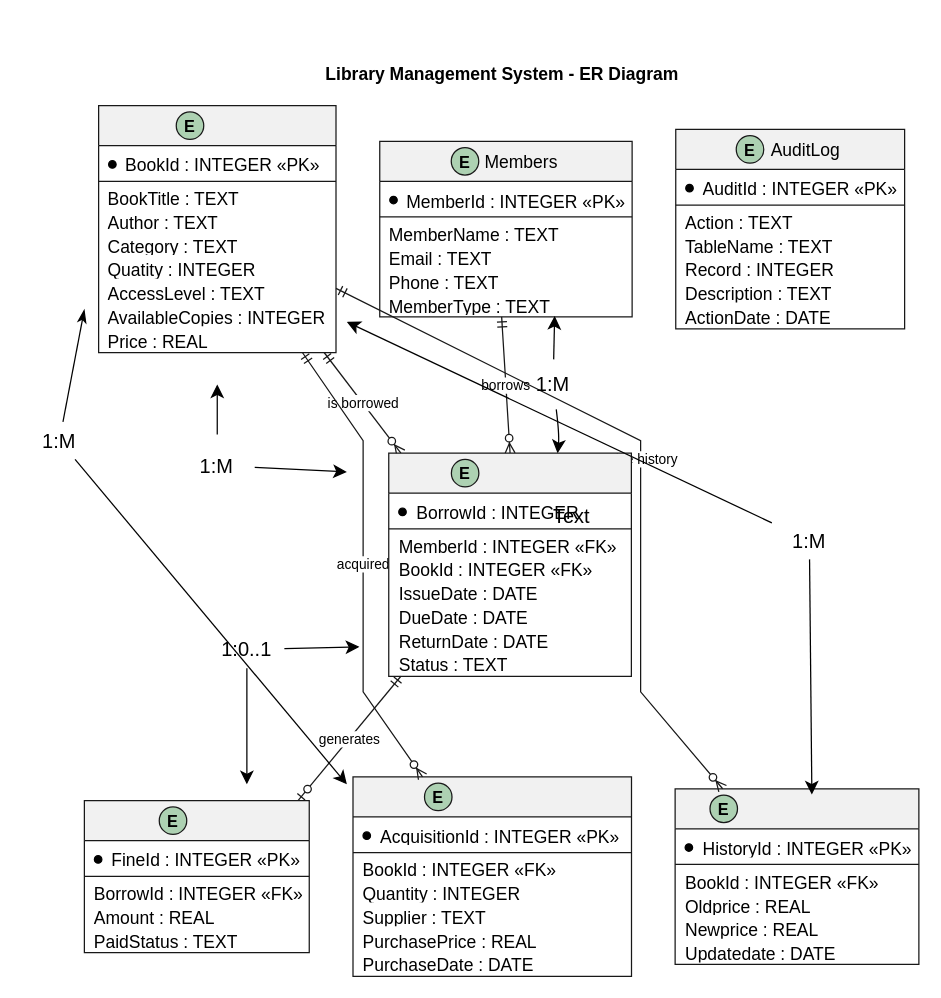
The diagram is 941 pixels wide and 998 high, and some of its shapes have lost their labels. The box of each missing label's shape, as (x1, y1, x2, y2) in pixels:
Acquisitions: (352, 776, 632, 976)
BookPriceHistory: (674, 788, 919, 964)
Books: (97, 104, 336, 352)
Borrowing: (388, 452, 631, 676)
Fines: (83, 799, 309, 952)
